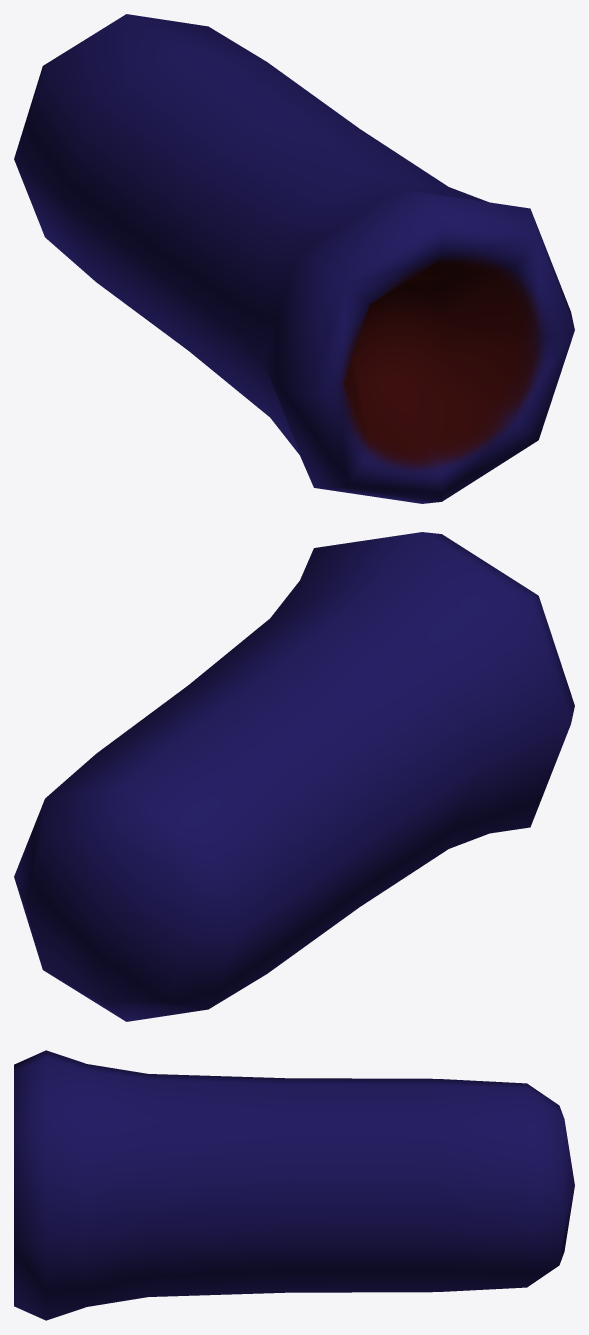
Rendered from cannon.glb.
The picture shows the model from 3 angles, top to bottom: view 1: azimuth 30°, elevation 25°; view 2: azimuth 150°, elevation 25°; view 3: azimuth 270°, elevation 25°; orthographic projection. The views are drawn at different scales.
Visible parts, largest first — view 1: Barrel; view 2: Barrel; view 3: Barrel.
Boxes of the visible parts, bbox=[...] form: Barrel: bbox=[14, 14, 574, 503]; Barrel: bbox=[14, 532, 574, 1021]; Barrel: bbox=[14, 1050, 574, 1320].
Size of the model in its own units: 0.3544 by 0.3544 by 0.7106.
Materials: 1 (1 with a texture image).
